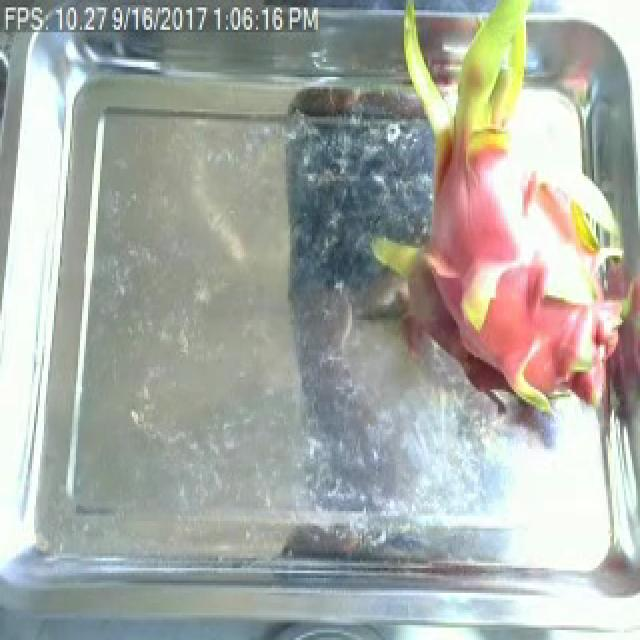fruit: (360, 7, 640, 444)
